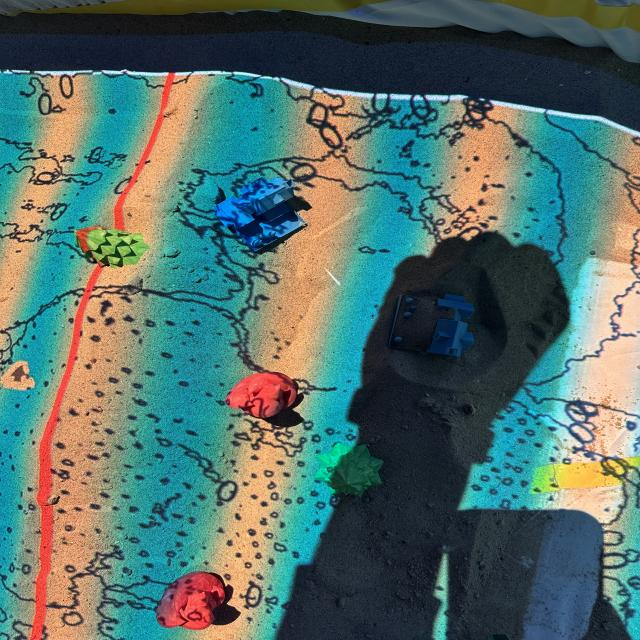fire: (156, 571, 225, 629), (227, 370, 299, 418)
house: (215, 175, 308, 252), (387, 290, 475, 358)
tree: (316, 442, 383, 496), (74, 226, 150, 268)
